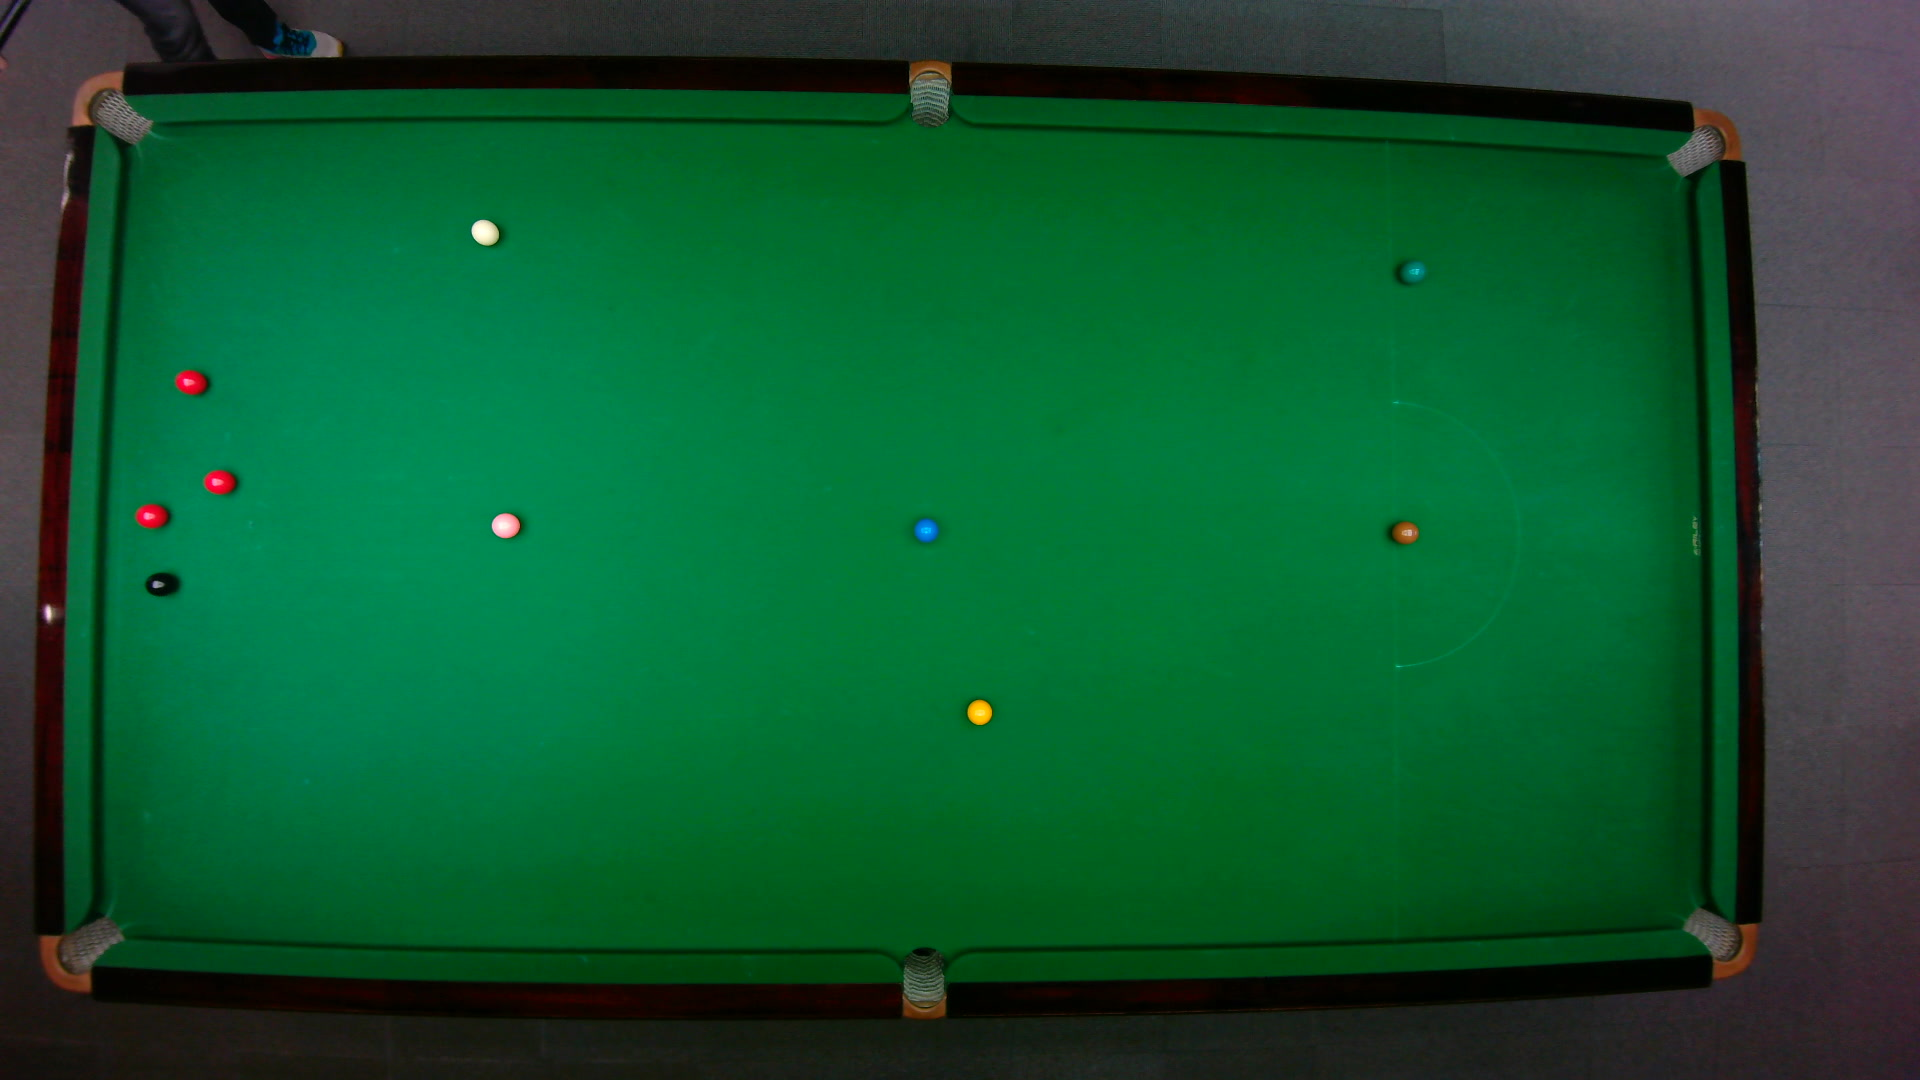bag: (37, 914, 125, 993), (69, 69, 153, 144), (1679, 905, 1758, 978), (1663, 107, 1741, 177), (901, 944, 944, 1021), (909, 57, 949, 128)
black: (142, 571, 175, 596)
blue: (911, 516, 939, 543)
brown: (1389, 520, 1419, 545)
green: (1396, 257, 1425, 284)
pink: (489, 510, 521, 541)
red: (202, 467, 236, 495), (173, 368, 207, 396), (133, 501, 167, 527)
white: (468, 218, 500, 247)
yellow: (964, 698, 992, 725)
zone: (1390, 398, 1520, 669)
